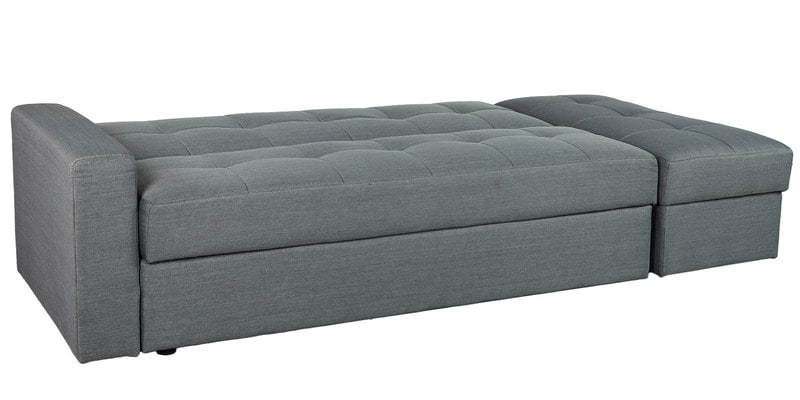chairs: (10, 77, 792, 368)
